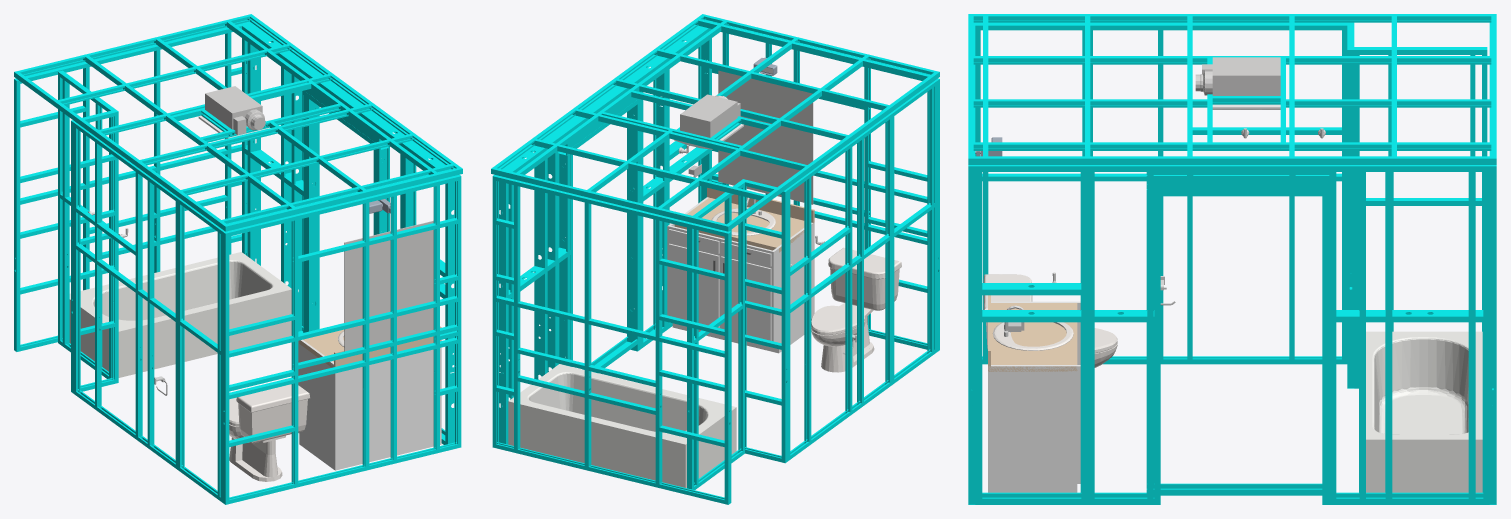
File: bathroom-pod.glb
3 renders of one model, left to right at view 1: azimuth 30°, elevation 25°; view 2: azimuth 150°, elevation 25°; view 3: azimuth 270°, elevation 25°, orthographic. The views are drawn at different scales.
Parts seen in each view (by area): view 1: part_07, part_08, part_00, part_02, part_05, part_03; view 2: part_07, part_08, part_00, part_02, part_05, part_03; view 3: part_07, part_08, part_00, part_03, part_02, part_05.
Boxes of the visible parts, box(x1,y1,x2,y2) form: part_07: box(14, 14, 462, 504); part_08: box(69, 252, 291, 377); part_00: box(298, 339, 441, 470); part_02: box(205, 86, 433, 351); part_05: box(229, 331, 344, 481); part_03: box(299, 326, 441, 367); part_07: box(491, 14, 939, 504); part_08: box(508, 364, 736, 488); part_00: box(667, 197, 814, 353); part_02: box(680, 70, 813, 204); part_05: box(711, 208, 901, 372); part_03: box(674, 187, 814, 252); part_07: box(968, 14, 1496, 504); part_08: box(1366, 331, 1482, 492); part_00: box(988, 301, 1080, 492); part_03: box(988, 295, 1077, 371); part_02: box(1195, 57, 1280, 95); part_05: box(983, 274, 1117, 367).
Bounding box in the file's own units: 2.04 × 2.42 × 3.15.
